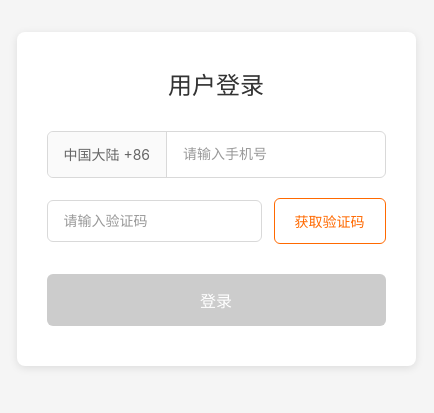
it: LoginForm Component › 未注册手机号应该显示注册提示
In the field with test id "phone-input": x=274, y=154 167,134 -> 380,174, type "13812345678"
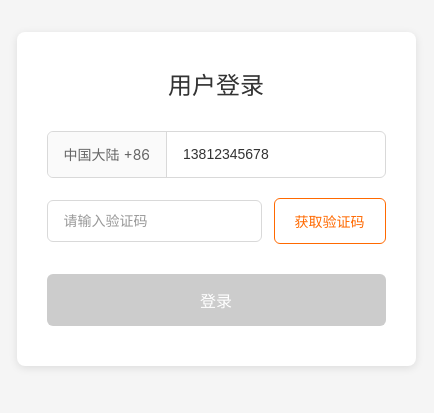
In the field with test id "verification-code-input": x=154, y=221 46,200 -> 262,242, type "123456"
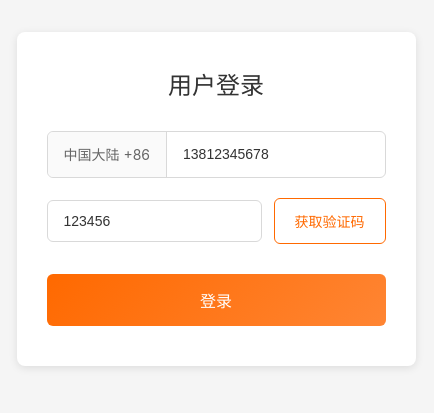
Click the button with test id "login-submit-button": x=216, y=300 46,274 -> 386,326
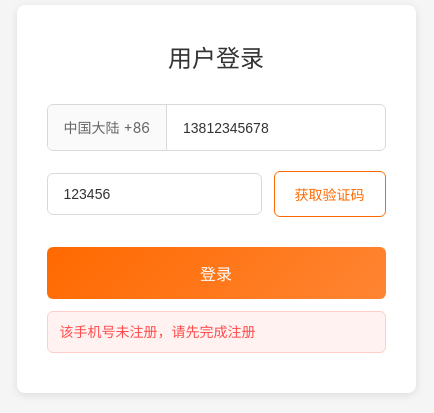
Result: the text with test id "login-error" reads "该手机号未注册，请先完成注册" at 60,323 -> 256,340
